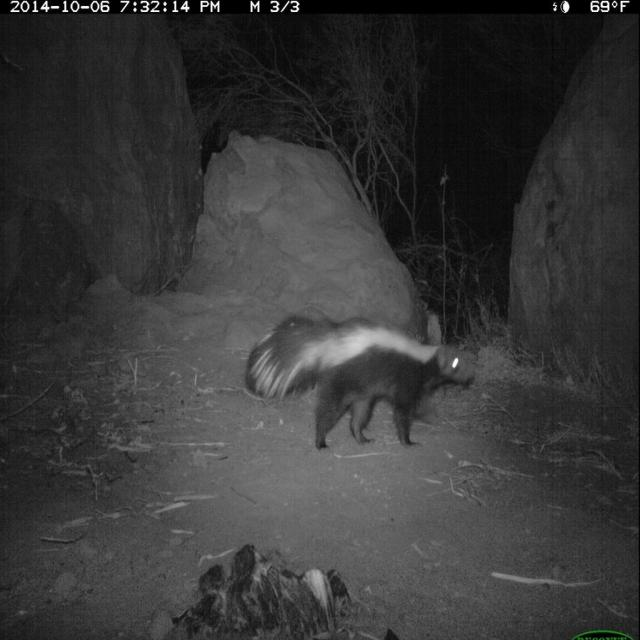skunk: (244, 307, 484, 460)
